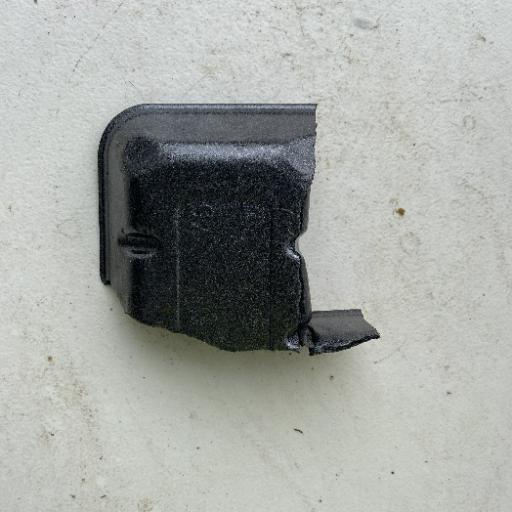Plastic: (94, 100, 381, 358)
